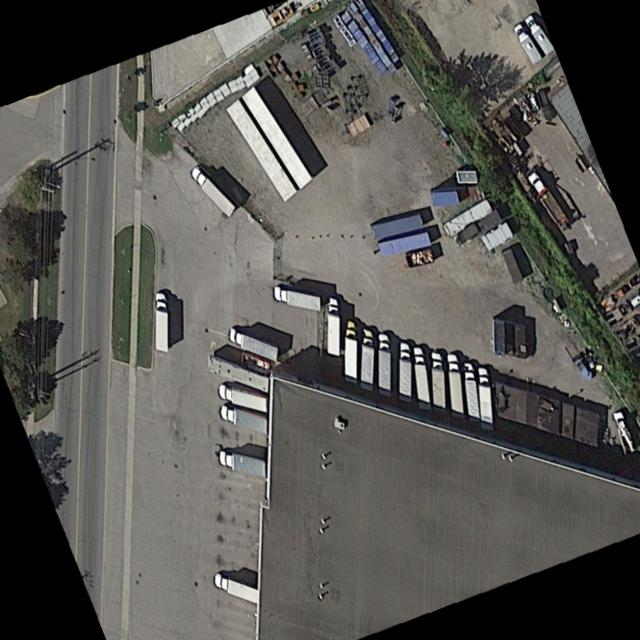large-vehicle: (523, 168, 570, 234), (188, 166, 234, 218), (228, 328, 277, 362), (218, 404, 266, 435), (216, 382, 265, 412), (522, 11, 553, 57), (609, 409, 636, 460), (213, 573, 256, 605), (510, 23, 541, 65), (218, 449, 264, 477), (409, 345, 430, 405), (272, 287, 319, 312), (447, 353, 463, 418), (476, 368, 492, 432), (462, 364, 478, 422), (359, 329, 373, 392), (343, 319, 356, 384), (430, 353, 444, 412), (397, 343, 410, 403), (377, 334, 389, 398), (154, 292, 166, 354), (326, 298, 338, 356)
small-vehicle: (625, 288, 640, 313)
